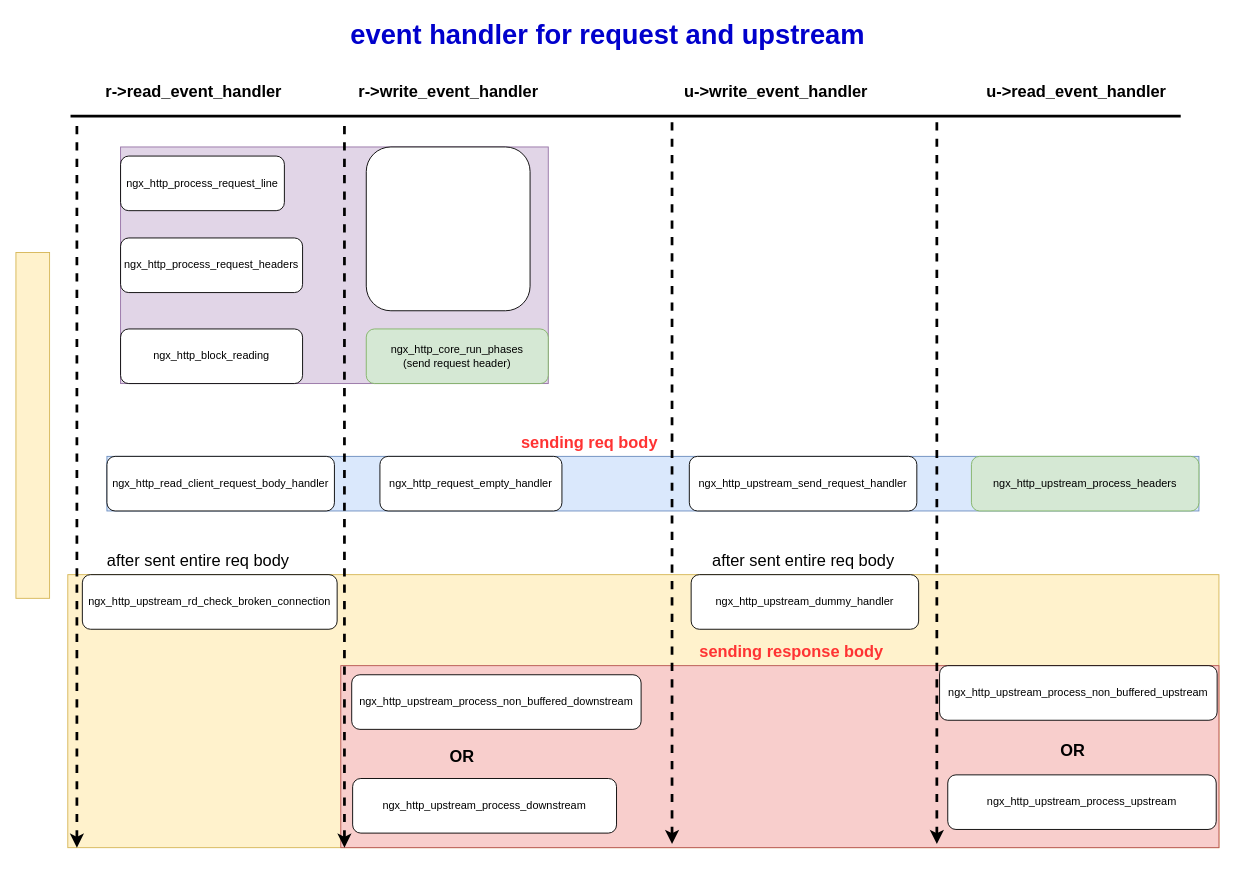
The diagram is 1235 pixels wide and 872 high, and some of its shapes have lost their labels. The box of each missing label's shape, as (x1, y1, x2, y2) in pixels:
ngx_http_empty_handler: (365, 146, 530, 311)
time line: (15, 252, 50, 598)
